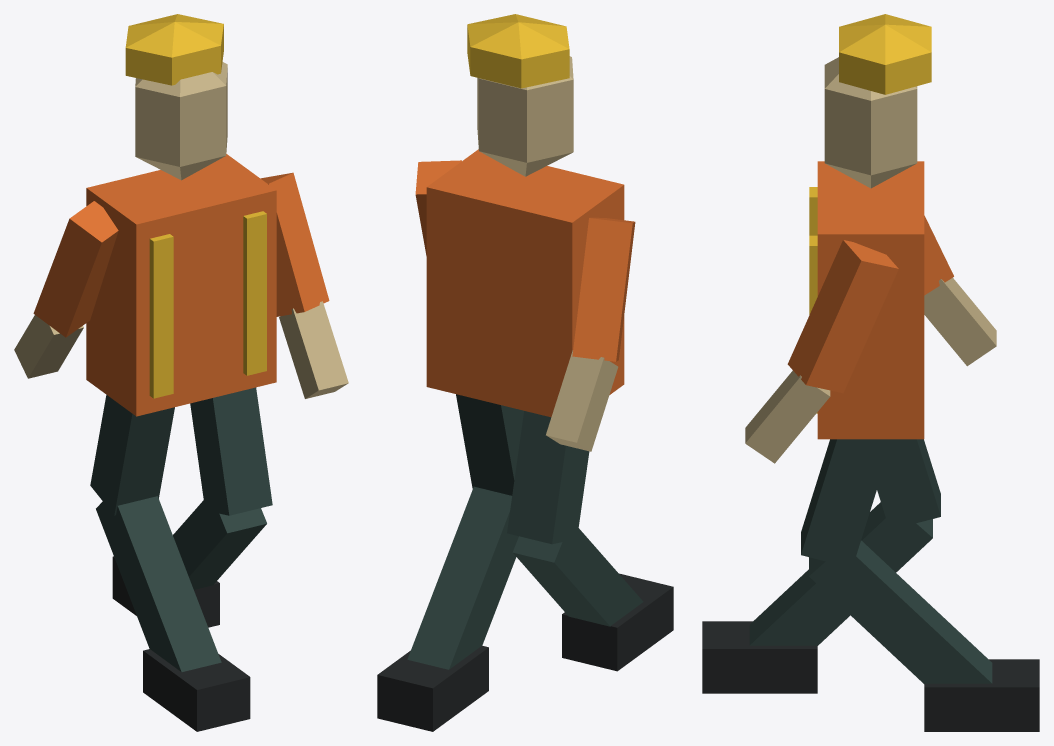
Rendered from TownWorker1.obj.
The picture shows the model from 3 angles, left to right: view 1: azimuth 30°, elevation 25°; view 2: azimuth 150°, elevation 25°; view 3: azimuth 270°, elevation 25°; orthographic projection. The views are drawn at different scales.
Parts seen in each view (by area): view 1: TownWorker1; view 2: TownWorker1; view 3: TownWorker1.
Part boxes in pixels (x1,y1,x2,y2): TownWorker1: (14, 14, 348, 731); TownWorker1: (377, 14, 673, 731); TownWorker1: (702, 14, 1039, 731).
Bounding box in the file's own units: 0.7047 × 1.81 × 0.82.
Materials: 1 (1 with a texture image).
